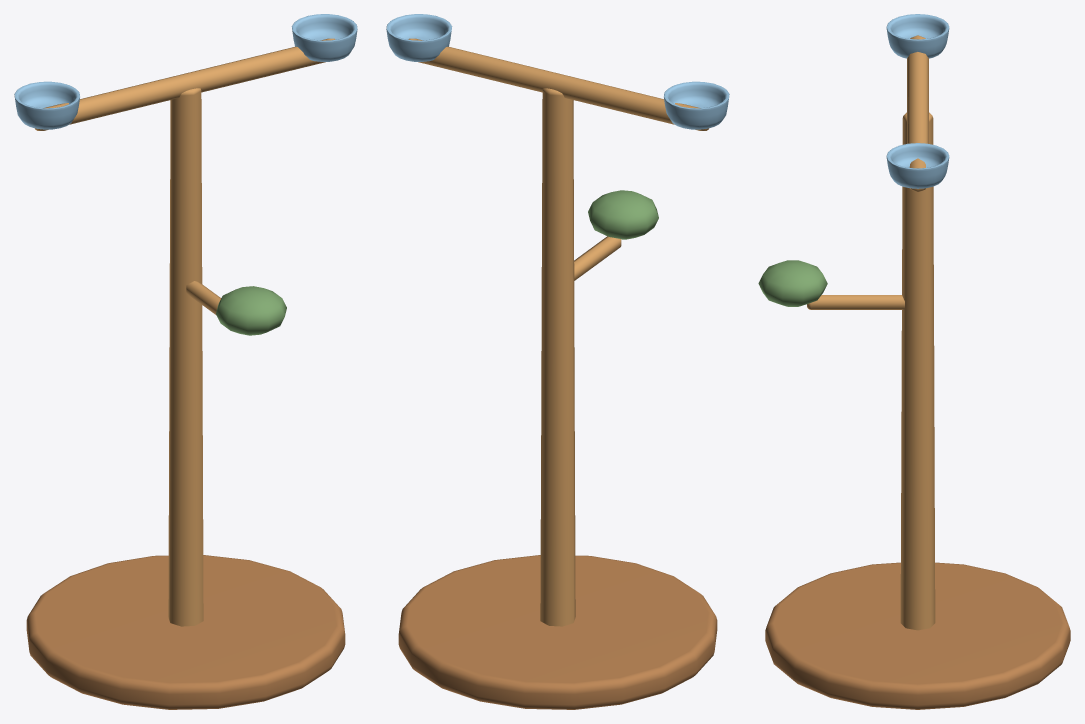
File: petroom_perch_stand.glb
The picture shows the model from 3 angles, left to right: view 1: azimuth 30°, elevation 25°; view 2: azimuth 150°, elevation 25°; view 3: azimuth 270°, elevation 25°; orthographic projection. The views are drawn at different scales.
Parts seen in each view (by area): view 1: petroom_perch_stand_mesh; view 2: petroom_perch_stand_mesh; view 3: petroom_perch_stand_mesh.
Part boxes in pixels (<box>): petroom_perch_stand_mesh: <box>14,14,357,709</box>; petroom_perch_stand_mesh: <box>386,14,729,709</box>; petroom_perch_stand_mesh: <box>758,14,1070,709</box>.
Bounding box in the file's own units: 0.5309 × 0.8853 × 0.45.
